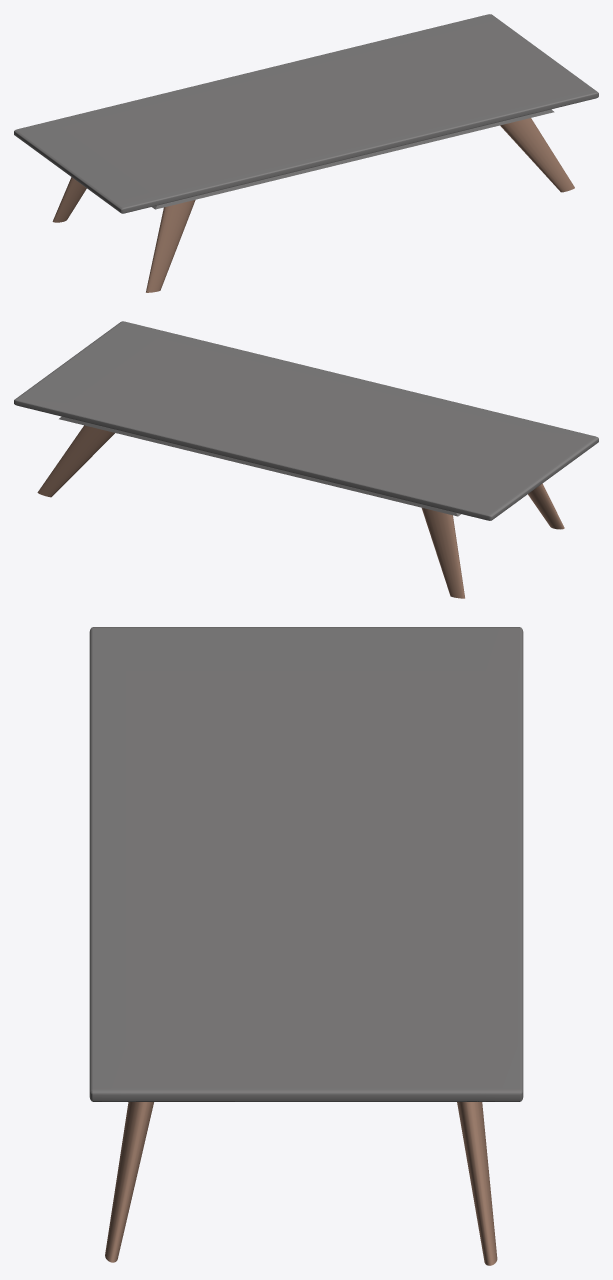
Rendered from Meja TV Panjang.fbx.
3 renders of one model, top to bottom at view 1: azimuth 30°, elevation 25°; view 2: azimuth 150°, elevation 25°; view 3: azimuth 270°, elevation 25°, orthographic. The views are drawn at different scales.
Parts seen in each view (by area): view 1: pCube59.002; view 2: pCube59.002; view 3: pCube59.002.
Part boxes in pixels (x1,y1,x2,y2): pCube59.002: (14, 14, 598, 292); pCube59.002: (14, 321, 598, 598); pCube59.002: (89, 627, 523, 1265).
Bounding box in the file's own units: 627 × 121 × 246.
